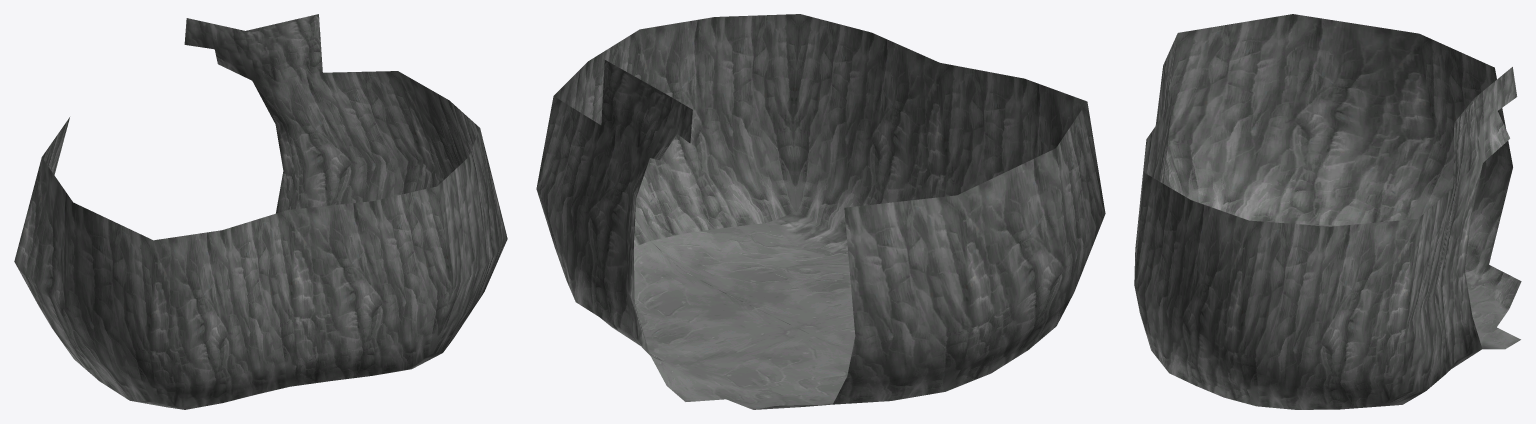
Rendered from SWORDLIGHT20_PS-AREA02-03TRANS_02.fbx.
3 renders of one model, left to right at view 1: azimuth 30°, elevation 25°; view 2: azimuth 150°, elevation 25°; view 3: azimuth 270°, elevation 25°, orthographic. The views are drawn at different scales.
Parts seen in each view (by area): view 1: SWORDLIGHT20_PS-AREA02-03TRANS_02; view 2: SWORDLIGHT20_PS-AREA02-03TRANS_02; view 3: SWORDLIGHT20_PS-AREA02-03TRANS_02.
Boxes of the visible parts, <box> form: SWORDLIGHT20_PS-AREA02-03TRANS_02: <box>14,14,507,409</box>; SWORDLIGHT20_PS-AREA02-03TRANS_02: <box>536,14,1105,409</box>; SWORDLIGHT20_PS-AREA02-03TRANS_02: <box>1134,14,1521,409</box>.
Size of the model in its own units: 232729 by 133992 by 172859.
Materials: 3 (3 with a texture image).
